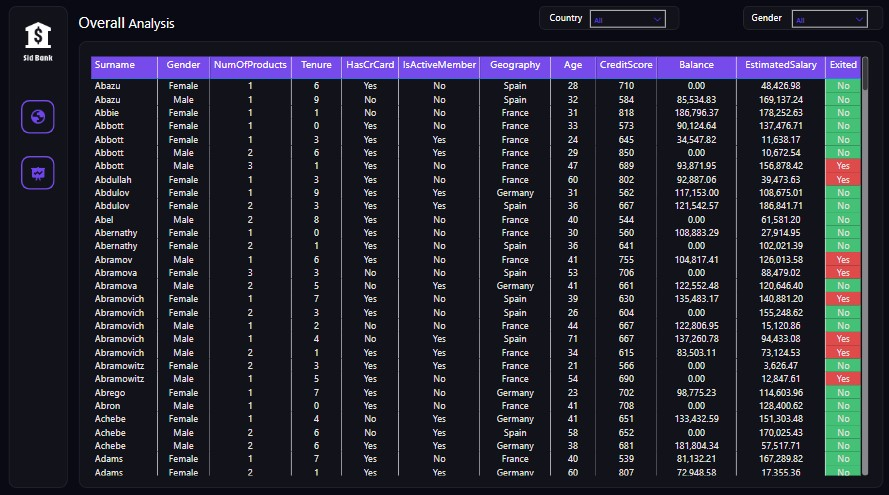

The page's visual inventory and layout, read from the dashboard file:
{"tool":"powerbi","page":{"name":"Overall Analysis","canvas":[1280,720],"ordinal":1},"visuals":[{"type":"tableEx","fields":{"Values":["class_customer_churn.Surname","class_customer_churn.Gender","class_customer_churn.NumOfProducts","class_customer_churn.Tenure","class_customer_churn.HasCrCard","class_customer_churn.IsActiveMember","class_customer_churn.Geography","class_customer_churn.Age","class_customer_churn.CreditScore","class_customer_churn.Balance","class_customer_churn.EstimatedSalary","class_customer_churn.Exited"]},"box":[128,80,1120,608],"z":0},{"type":"slicer","fields":{"Values":["class_customer_churn.Geography"]},"box":[836,9,128,48],"z":1000},{"type":"textbox","box":[784,16,80,32],"z":2000},{"type":"slicer","fields":{"Values":["class_customer_churn.Gender"]},"box":[1125,9,128,48],"z":3000},{"type":"textbox","box":[1072,16,80,32],"z":4000},{"type":"shape","box":[34,147,48,48],"z":5000},{"type":"shape","box":[34,227,48,48],"z":6000},{"type":"textbox","box":[112,16,224,48],"z":7000}]}

Visuals, with their boxes on the page's 1280x720 design canvas (x1, y1, x2, y2). These are canvas units, not pixel positions in the 889x495 screenshot, which may show the page scaled, cropped or inside an application window:
tableEx - class_customer_churn.Surname x class_customer_churn.Gender: region(128, 80, 1248, 688)
slicer - class_customer_churn.Geography: region(836, 9, 964, 57)
textbox: region(784, 16, 864, 48)
slicer - class_customer_churn.Gender: region(1125, 9, 1253, 57)
textbox: region(1072, 16, 1152, 48)
shape: region(34, 147, 82, 195)
shape: region(34, 227, 82, 275)
textbox: region(112, 16, 336, 64)
